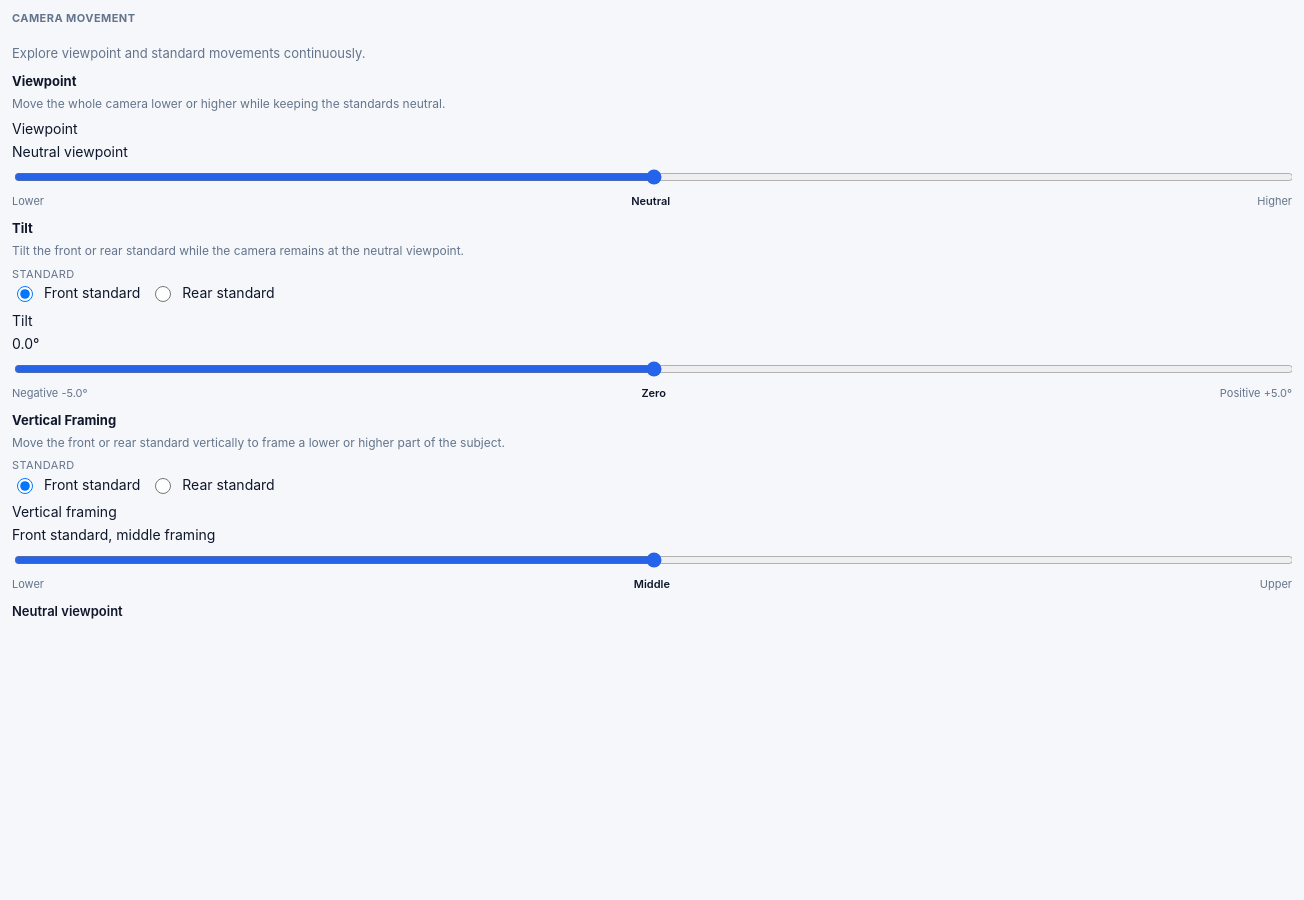
Test case: CameraMovementTeachingControls › preserves vertical framing while transferring it to the selected Rear standard
Set the slider labelled "Vertical framing" to "0.35": (874, 560) [14,552,1292,568]
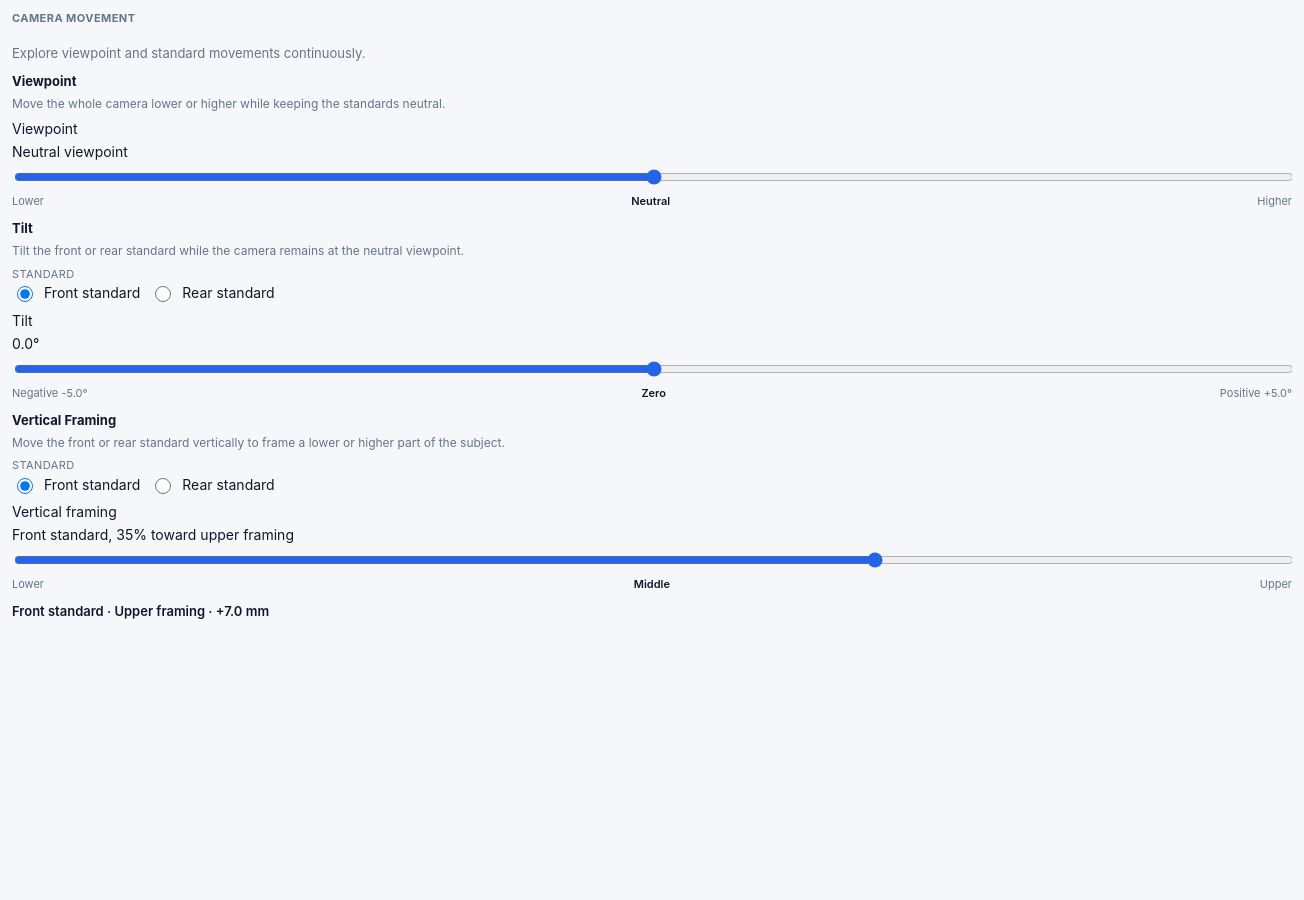
Click the 2nd radio button labelled "Rear standard": click(163, 486) [155,478,171,494]
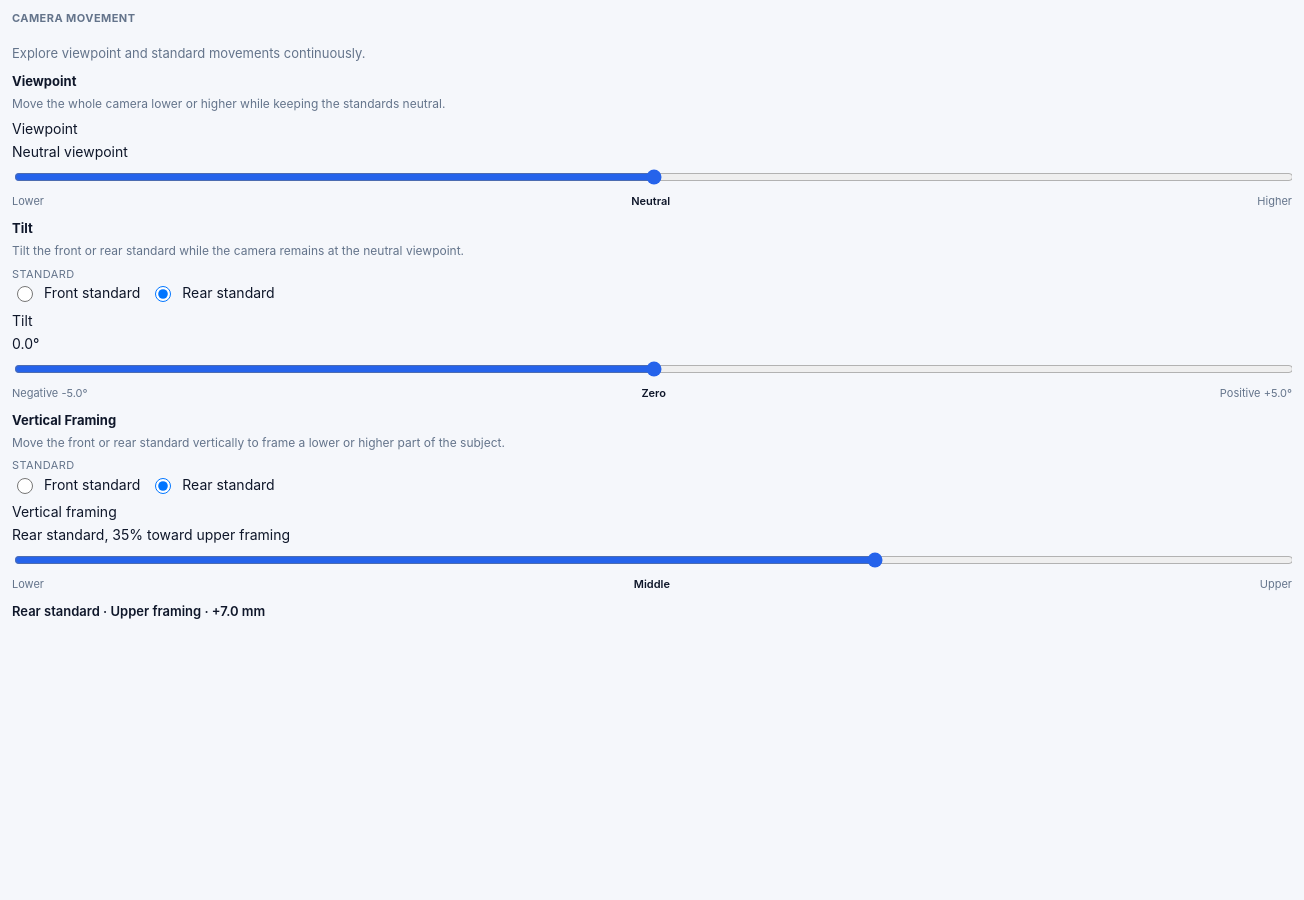
Expected: the message reads "Rear standard · Upper framing · +7.0 mm", [12,603,265,619]
